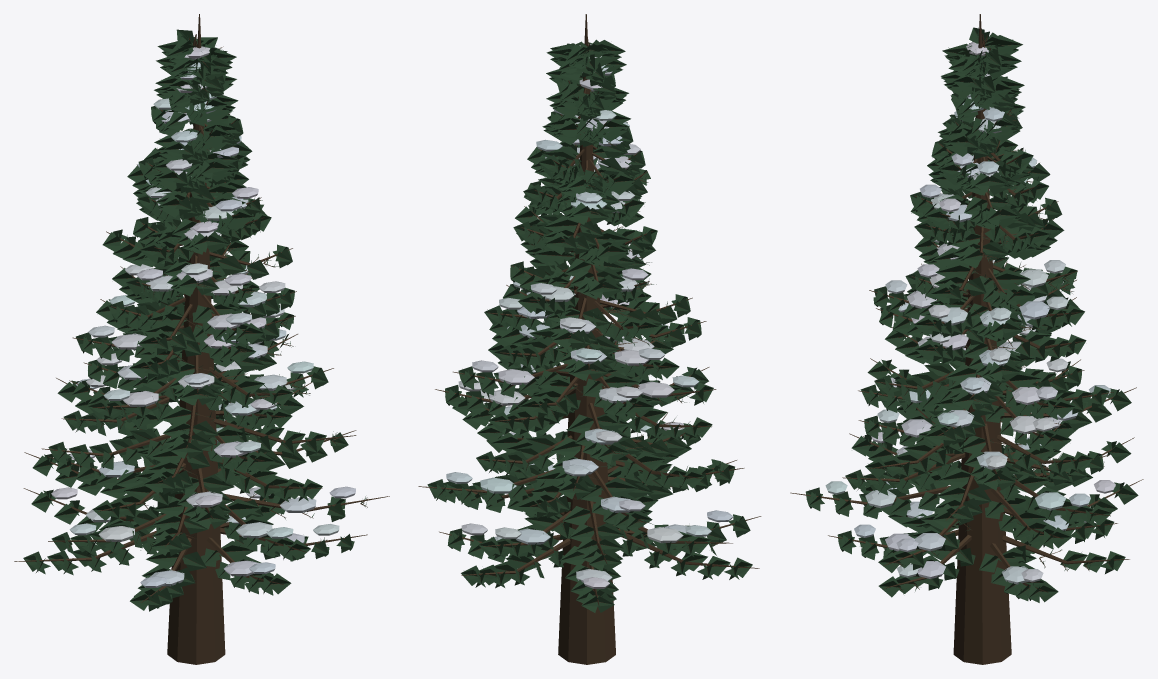
The model's file is pc_spruce_3_lod0.glb.
3 views of the same model, side by side, from view 1: azimuth 30°, elevation 25°; view 2: azimuth 150°, elevation 25°; view 3: azimuth 270°, elevation 25° (orthographic).
Parts seen in each view (by area): view 1: pc_spruce_3_lod0; view 2: pc_spruce_3_lod0; view 3: pc_spruce_3_lod0.
Boxes of the visible parts, box(x1,y1,x2,y2) form: pc_spruce_3_lod0: box(14, 14, 389, 664); pc_spruce_3_lod0: box(418, 14, 761, 664); pc_spruce_3_lod0: box(790, 14, 1143, 664).
Bounding box in the file's own units: 5.54 × 10.5 × 5.26.
